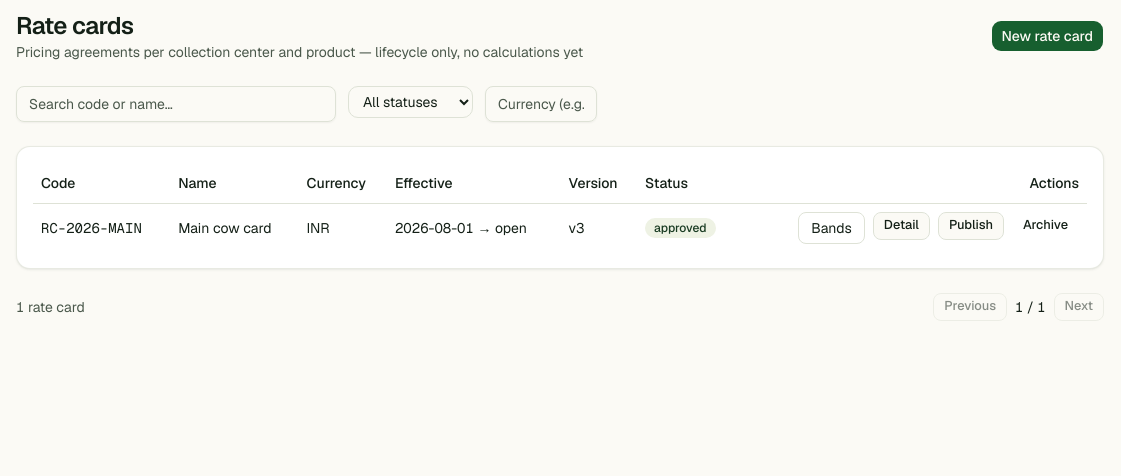
Scenario: rate-card publish/archive discipline › publish asks first; cancel sends nothing
The width and height of the screenshot is (1121, 476).
Click the button "Publish": (971, 226) [938,212,1004,240]
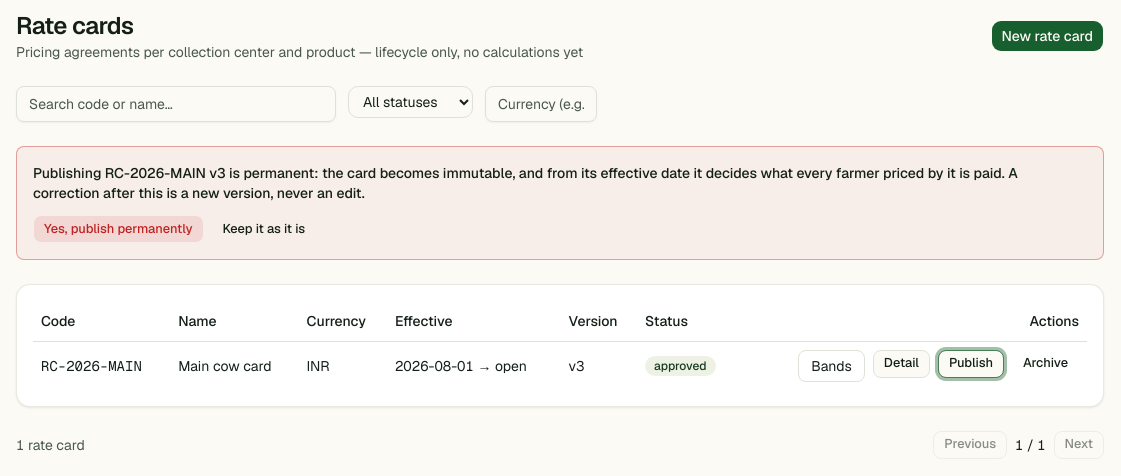
Expected: the text "Publishing RC-2026-MAIN v3 is permanent" is shown, [33,164,1018,202]
Click the button "Keep it as it is": (264, 229) [212,215,316,243]
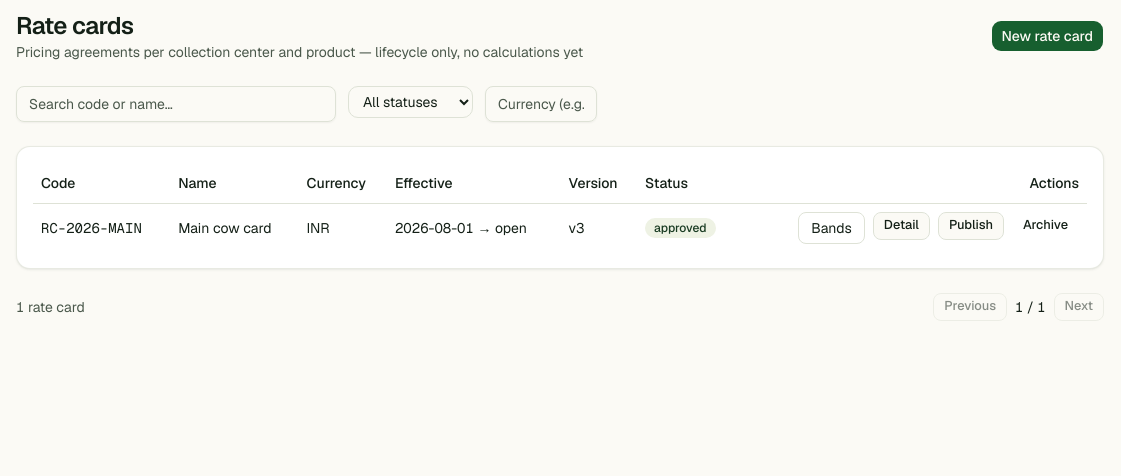
Expected: the text "Publishing RC-2026-MAIN" is gone
